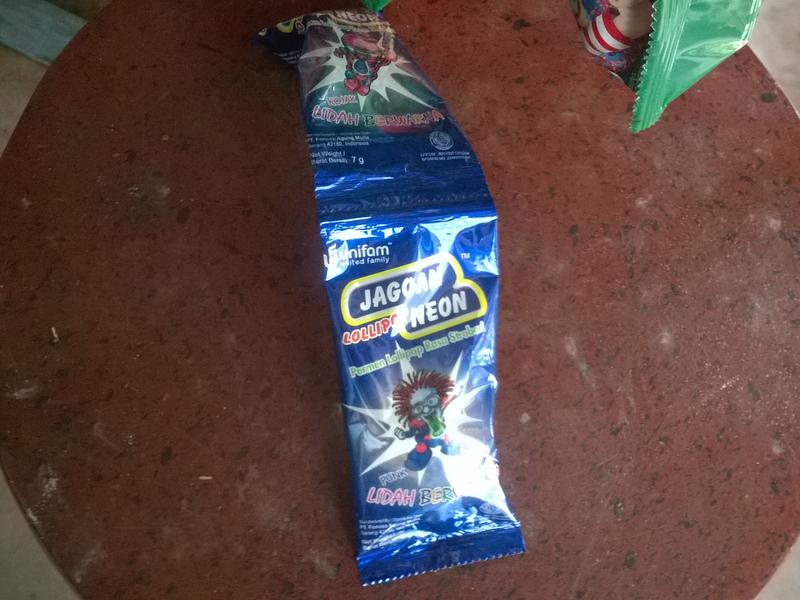jagoan neon: (317, 193, 520, 587), (257, 10, 495, 195)
